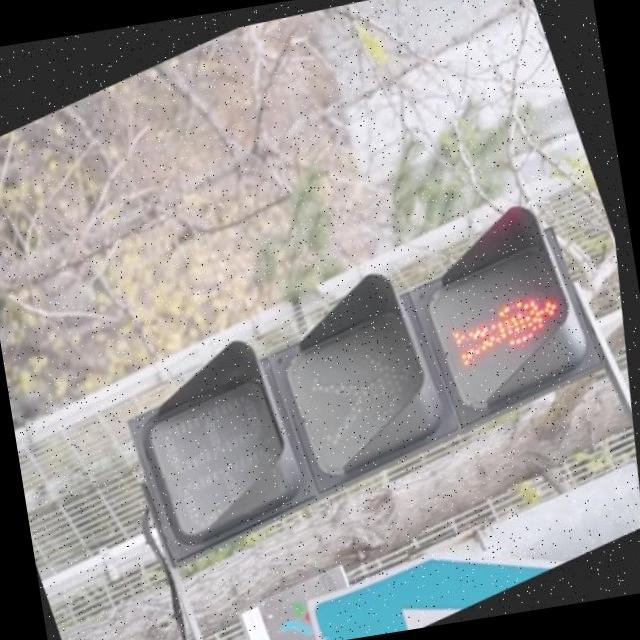red_light: (418, 238, 594, 407)
